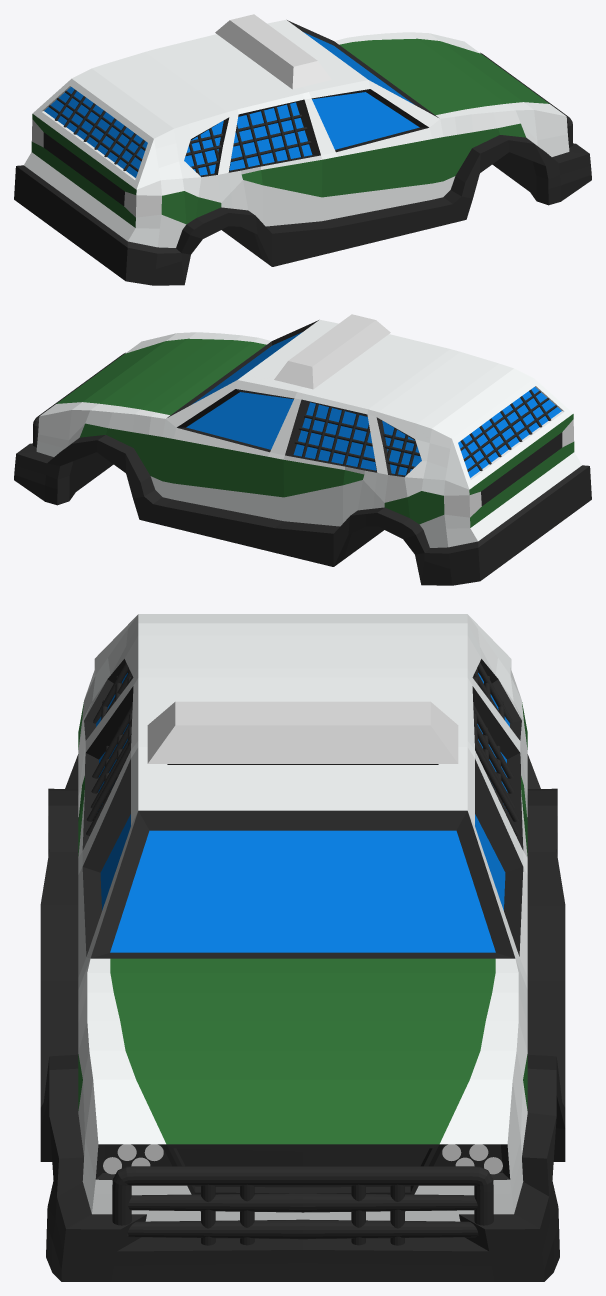
The model's file is Polizei.fbx.
3 renders of one model, top to bottom at view 1: azimuth 30°, elevation 25°; view 2: azimuth 150°, elevation 25°; view 3: azimuth 270°, elevation 25°, orthographic. The views are drawn at different scales.
Parts seen in each view (by area): view 1: Polizei; view 2: Polizei; view 3: Polizei.
Boxes of the visible parts, left/top/right/bottom form: Polizei: left=14, top=14, right=591, bottom=285; Polizei: left=14, top=314, right=591, bottom=585; Polizei: left=40, top=614, right=565, bottom=1281.
Size of the model in its own units: 1390 by 490 by 684.
